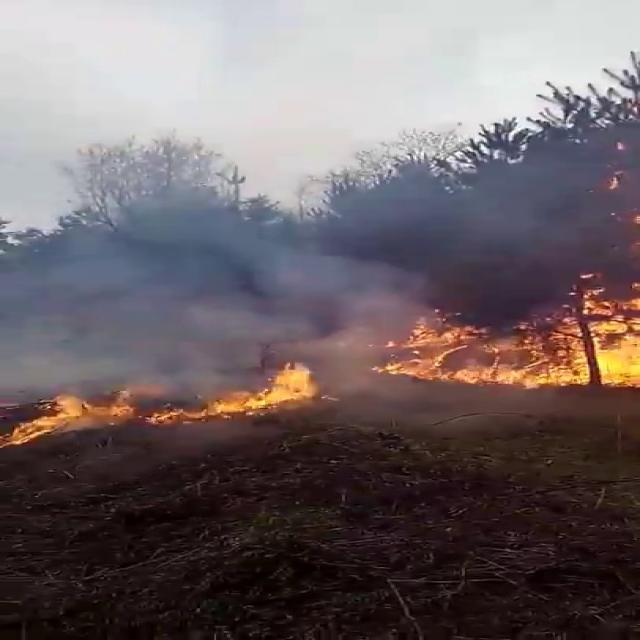Fire: (370, 286, 640, 392), (6, 356, 328, 439)
Smoke: (3, 58, 639, 370)
